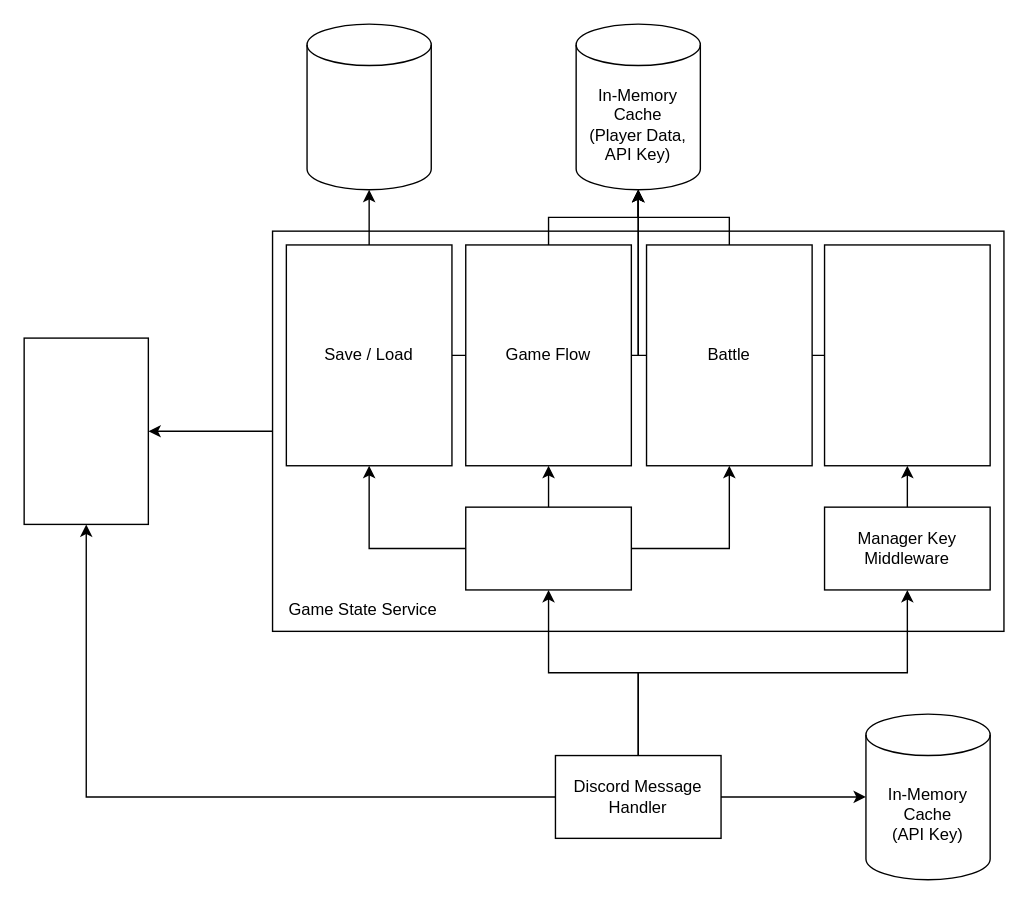
This 1028x904 diagram has some shape labels left out. Here are the shapes that lost their labels. From the top down, the centre of each, then its label:
At point 368,106: "Cosmos DB (Player Data )".
At point 906,355: "API Key".
At point 85,430: "Key Vault (Secret, API Key)".
At point 547,548: "API Key Middleware".
